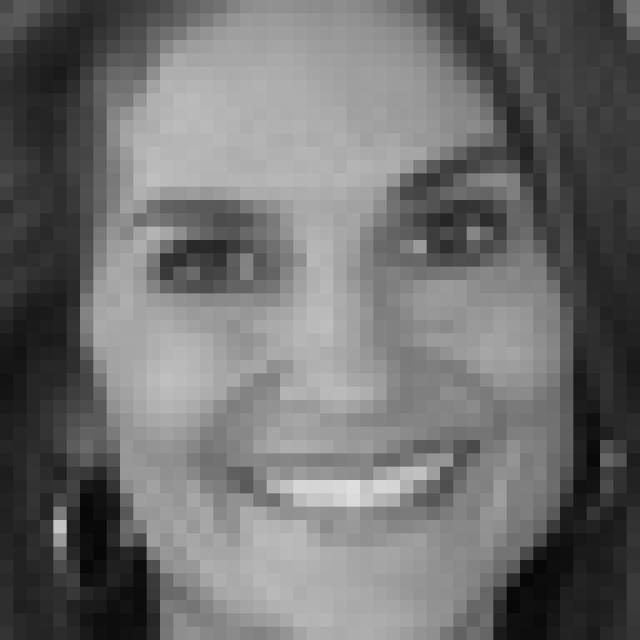happy: (117, 131, 536, 564)
